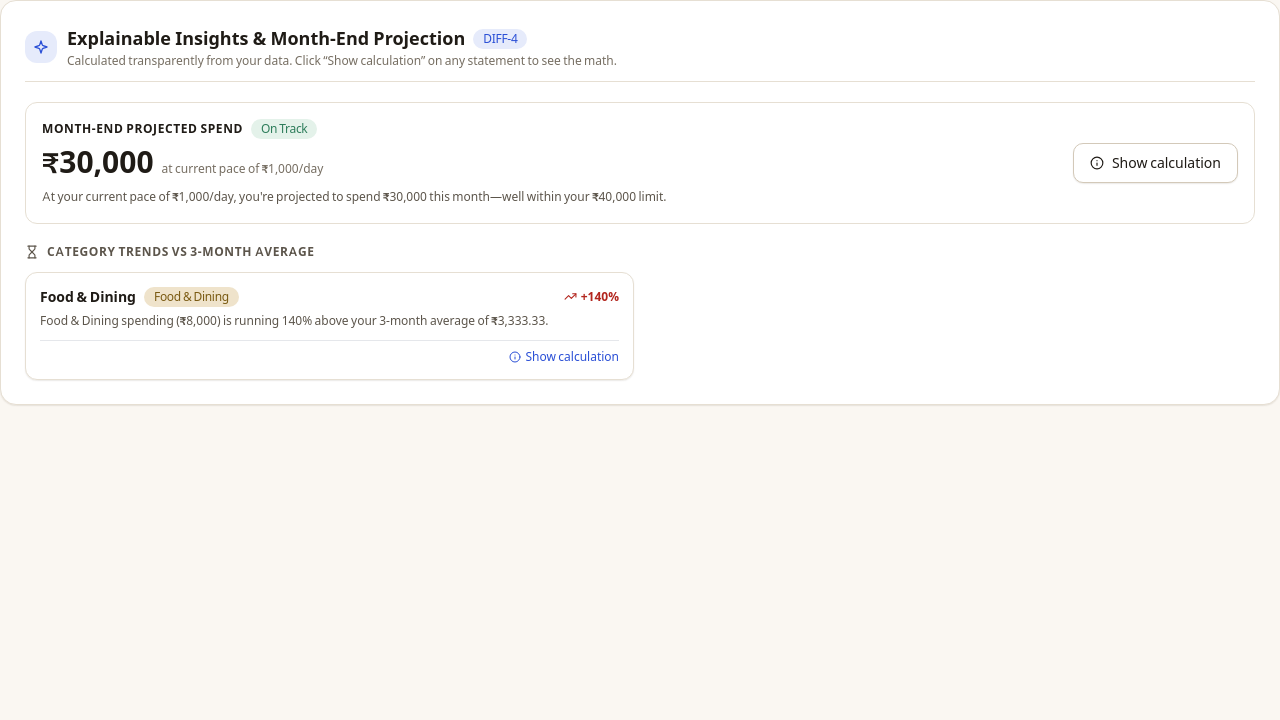
ExplainableInsightsCard (DIFF-4) › opens calculation modal when clicking Show calculation on Month-End Projection
Later steps or results of the test are not shown.
What coordinates should you click on to do the following:
click the button with aria-label "Show calculation for month-end projection"
I would click on:
 (1155, 163)
Its box is 1073,143 -> 1238,183.
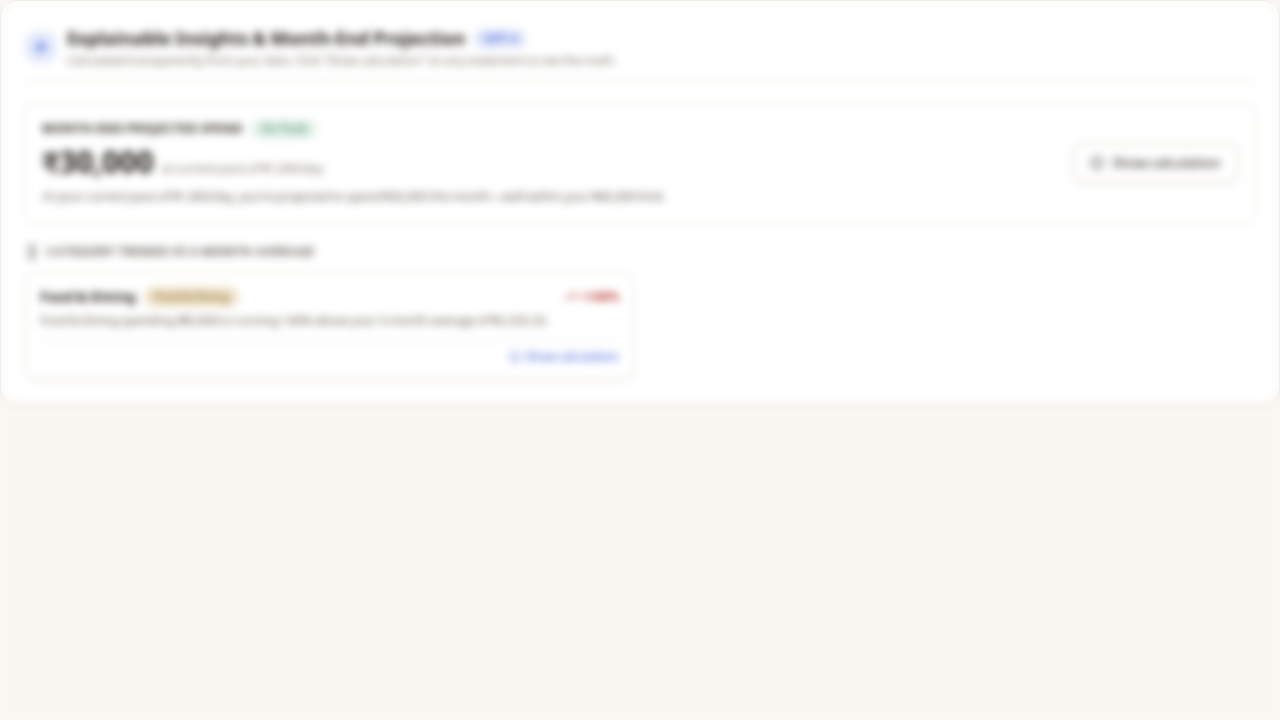
Result: the dialog is shown
